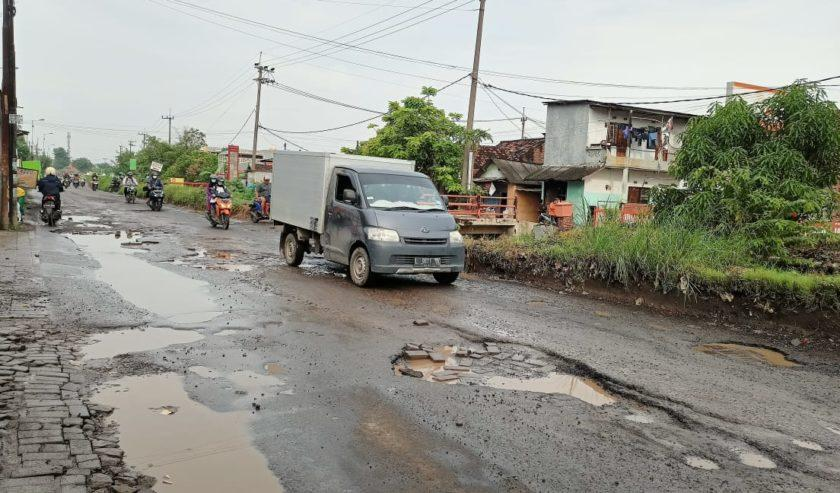Pothole: (406, 310, 840, 493), (15, 298, 342, 493), (56, 212, 296, 291), (690, 322, 821, 392)
